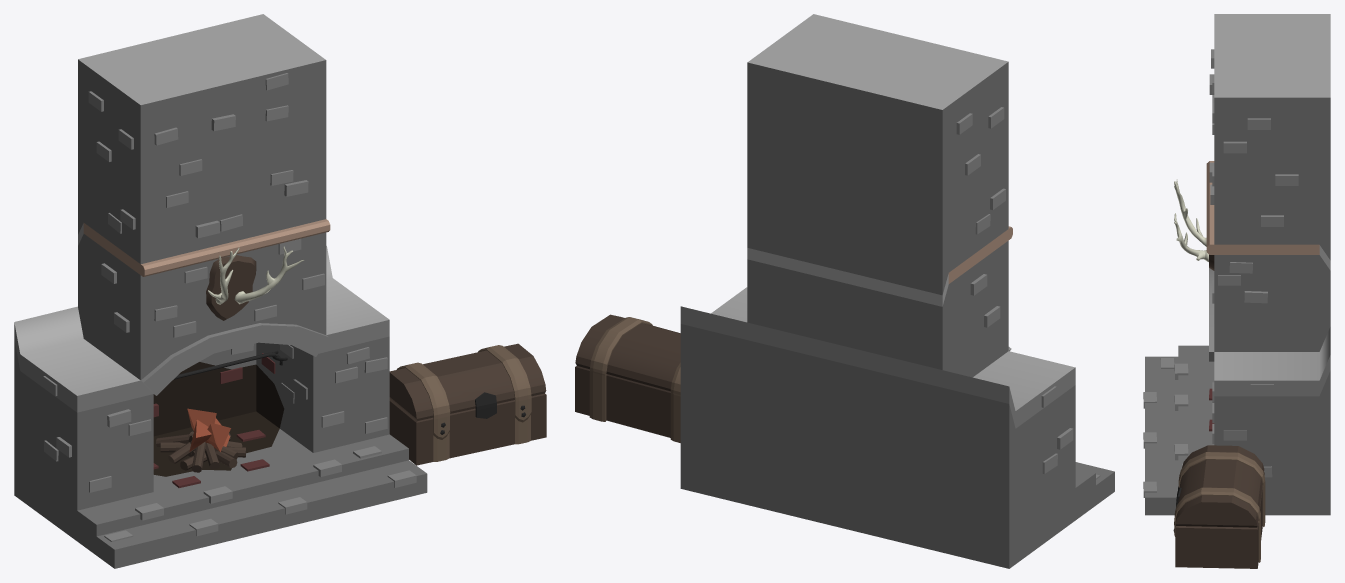
File: fireplace.fbx
3 views of the same model, side by side, from view 1: azimuth 30°, elevation 25°; view 2: azimuth 150°, elevation 25°; view 3: azimuth 270°, elevation 25° (orthographic). The views are drawn at different scales.
Parts seen in each view (by area): view 1: fireplace1, chest, mountedAnimals:pCube4, firewood_chunck, pPlatonic4; view 2: fireplace1, chest; view 3: fireplace1, chest, mountedAnimals:pCube4.
Part boxes in pixels (x1,y1,x2,y2): fireplace1: (14, 14, 427, 568); chest: (389, 343, 546, 465); mountedAnimals:pCube4: (206, 246, 304, 320); firewood_chunck: (156, 431, 245, 472); pPlatonic4: (189, 419, 230, 451); fireplace1: (680, 14, 1114, 568); chest: (575, 314, 680, 442); fireplace1: (1143, 14, 1330, 515); chest: (1173, 445, 1265, 568); mountedAnimals:pCube4: (1174, 179, 1214, 270).
Size of the model in its own units: 15.92 by 14.05 by 6.12.
